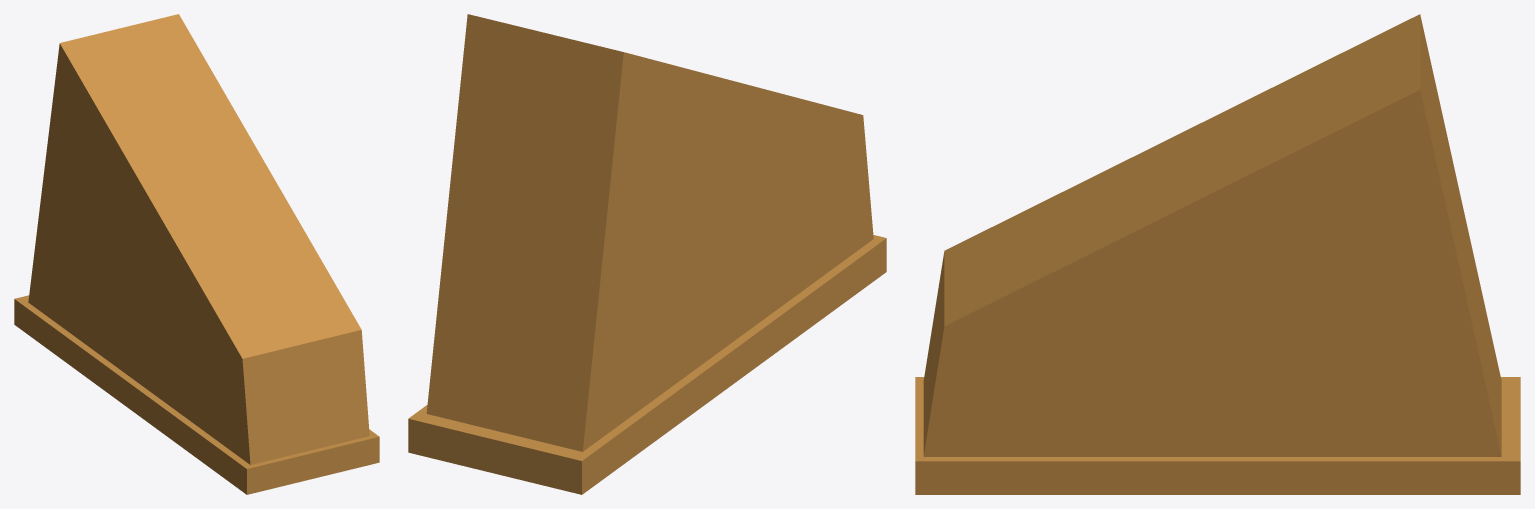
Rendered from knifeholder6.fbx.
3 views of the same model, side by side, from view 1: azimuth 30°, elevation 25°; view 2: azimuth 150°, elevation 25°; view 3: azimuth 270°, elevation 25° (orthographic). The views are drawn at different scales.
Visible parts, largest first — view 1: Cube.004, Cube.012; view 2: Cube.004, Cube.012; view 3: Cube.004, Cube.012.
Part boxes in pixels (bbox=[...]): Cube.004: bbox=[28, 14, 369, 464]; Cube.012: bbox=[14, 295, 379, 494]; Cube.004: bbox=[426, 14, 873, 451]; Cube.012: bbox=[408, 235, 886, 494]; Cube.004: bbox=[923, 14, 1501, 456]; Cube.012: bbox=[915, 377, 1520, 494].
Size of the model in its own units: 83.66 by 186 by 254.
